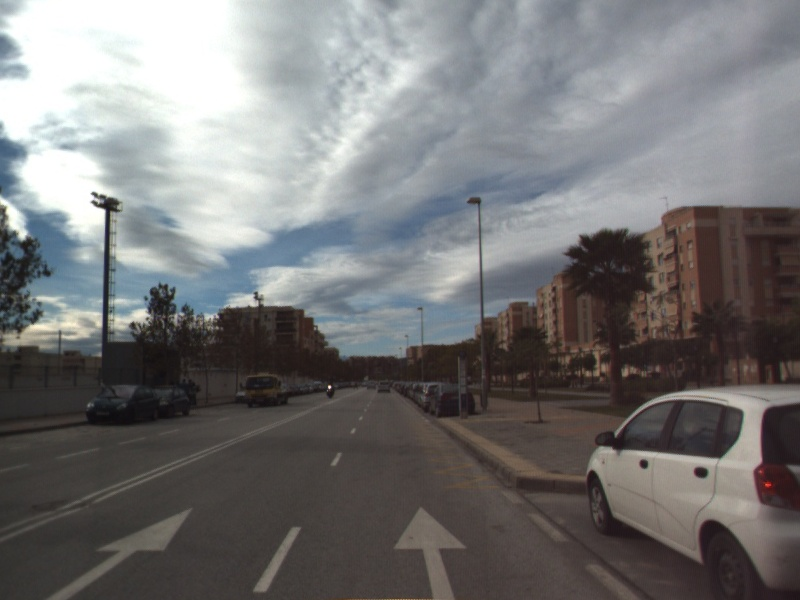STRAIGHT: (42, 505, 196, 600), (391, 504, 469, 600)
